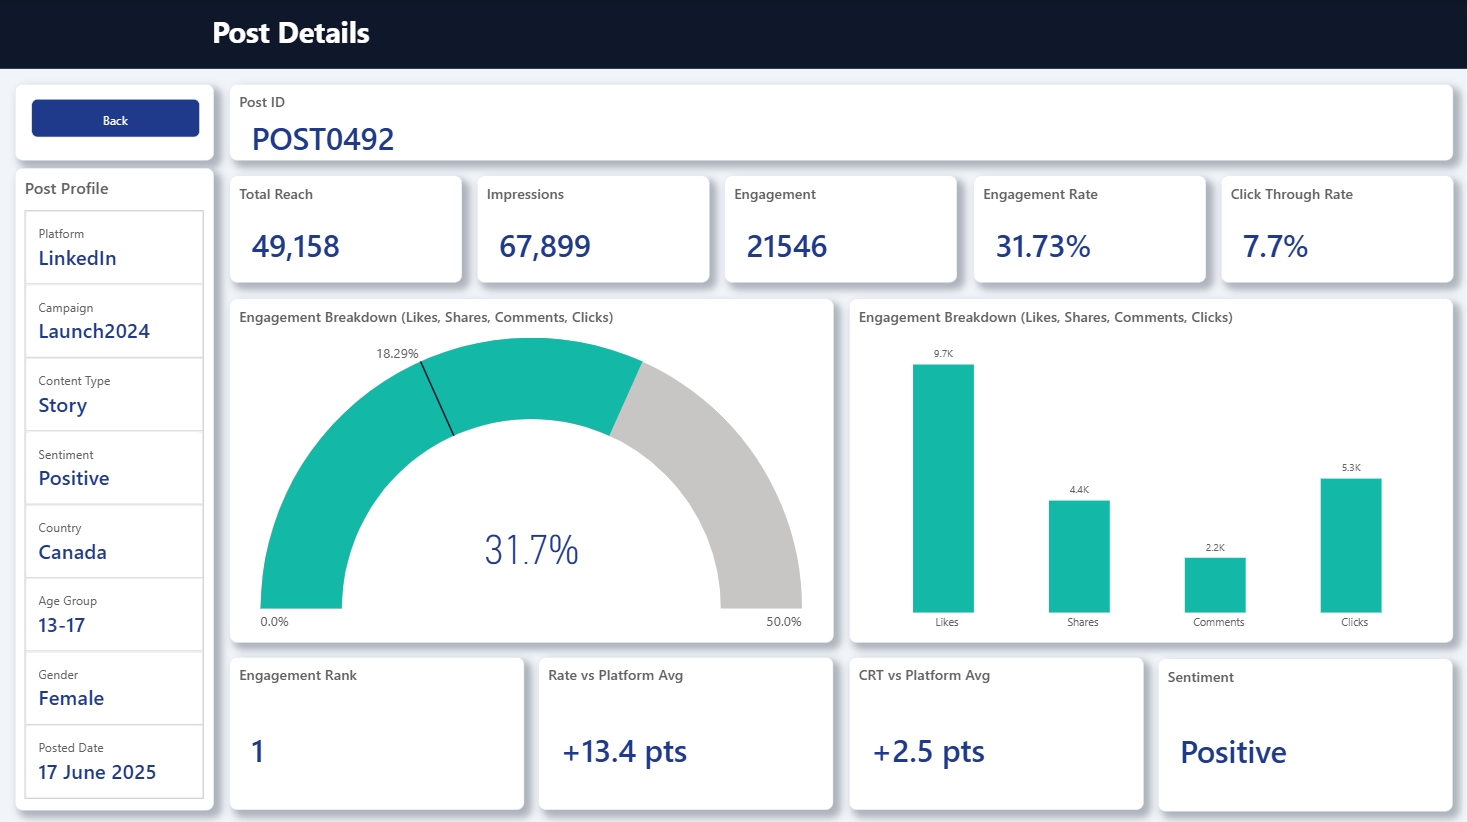

What the dashboard file says about the page in this screenshot:
{"tool":"powerbi","page":{"name":"Post Details","canvas":[1920,1080],"ordinal":6},"visuals":[{"type":"shape","box":[0,0,1920,90],"z":0},{"type":"textbox","box":[0,6.8,760,76.7],"z":1000},{"type":"shape","box":[20,110,260,100],"z":2000},{"type":"actionButton","box":[40.9,129.5,220,50],"z":3000},{"type":"cardVisual","title":"Post ID","fields":{"Data":["Min(SocialMediaInsights.PostID)"]},"box":[300,110,1600,100],"z":4000},{"type":"cardVisual","title":"Total Reach","fields":{"Data":["SocialMediaInsights.TotalReach"]},"box":[300,230,304,140],"z":5000},{"type":"cardVisual","title":"Impressions","fields":{"Data":["SocialMediaInsights.TotalImpressions"]},"box":[624,230,304,140],"z":6000},{"type":"cardVisual","title":"Engagement","fields":{"Data":["SocialMediaInsights.TotalEngagement"]},"box":[948,230,304,140],"z":7000},{"type":"cardVisual","title":"Engagement Rate","fields":{"Data":["SocialMediaInsights.EngagementRate"]},"box":[1272,230,304,140],"z":8000},{"type":"cardVisual","title":"Click Through Rate","fields":{"Data":["SocialMediaInsights.ClickThroughRate"]},"box":[1596,230,304,140],"z":9000},{"type":"cardVisual","title":"Post Profile","fields":{"Data":["Min(SocialMediaInsights.Platform)","Min(SocialMediaInsights.Campaign)","Min(SocialMediaInsights.ContentType)","Min(SocialMediaInsights.Sentiment)","Min(SocialMediaInsights.Country)","Min(SocialMediaInsights.AgeGroup)","Min(SocialMediaInsights.Gender)","Min(SocialMediaInsights.PostedDate)"]},"box":[20,220,260,840],"z":10000},{"type":"cardVisual","title":"Engagement Rank","fields":{"Data":["SocialMediaInsights.Engagement Rank"]},"box":[300,860,385,200],"z":11000},{"type":"cardVisual","title":"Rate vs Platform Avg","fields":{"Data":["SocialMediaInsights.Rate vs Platform Avg"]},"box":[705,860,385,200],"z":12000},{"type":"cardVisual","title":"CRT vs Platform Avg","fields":{"Data":["SocialMediaInsights.CTR vs Platform Avg"]},"box":[1110,860,385,200],"z":13000},{"type":"cardVisual","title":"Sentiment","fields":{"Data":["Min(SocialMediaInsights.Sentiment)"]},"box":[1515,860.8,385,200],"z":14000},{"type":"clusteredColumnChart","title":"Engagement Breakdown (Likes, Shares, Comments, Clicks)","fields":{"Category":["Metric Table.Metric"],"Y":["Metric Table.Metric Value"]},"box":[1110.7,390.7,790,450],"z":16000},{"type":"gauge","title":"Engagement Breakdown (Likes, Shares, Comments, Clicks)","fields":{"TargetValue":["SocialMediaInsights.Platform Avg Engagement Rate"],"Y":["SocialMediaInsights.EngagementRate"]},"box":[300,390,790,450],"z":16001}]}

Visuals, with their boxes in screenshot pixels (x1, y1, x2, y2), scaled from the page's 1920x1080 canvas onto the 1468x822 screenshot:
shape: detection(0, 0, 1467, 68)
textbox: detection(0, 5, 581, 64)
shape: detection(15, 84, 214, 160)
actionButton: detection(31, 99, 199, 137)
"Post ID" cardVisual: detection(229, 84, 1453, 160)
"Total Reach" cardVisual: detection(229, 175, 462, 282)
"Impressions" cardVisual: detection(477, 175, 710, 282)
"Engagement" cardVisual: detection(725, 175, 957, 282)
"Engagement Rate" cardVisual: detection(973, 175, 1205, 282)
"Click Through Rate" cardVisual: detection(1220, 175, 1453, 282)
"Post Profile" cardVisual: detection(15, 167, 214, 807)
"Engagement Rank" cardVisual: detection(229, 655, 524, 807)
"Rate vs Platform Avg" cardVisual: detection(539, 655, 833, 807)
"CRT vs Platform Avg" cardVisual: detection(849, 655, 1143, 807)
"Sentiment" cardVisual: detection(1158, 655, 1453, 807)
"Engagement Breakdown (Likes, Shares, Comments, Clicks)" clusteredColumnChart: detection(849, 297, 1453, 640)
"Engagement Breakdown (Likes, Shares, Comments, Clicks)" gauge: detection(229, 297, 833, 639)
